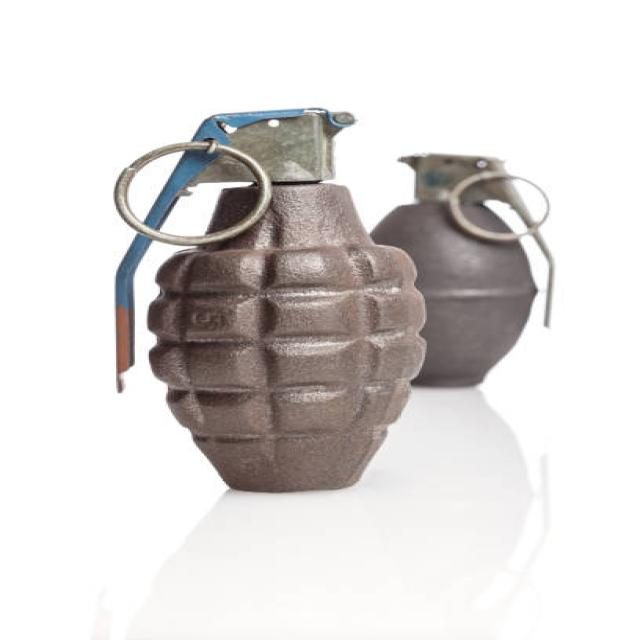grenade: (98, 104, 442, 497), (375, 150, 574, 402)
